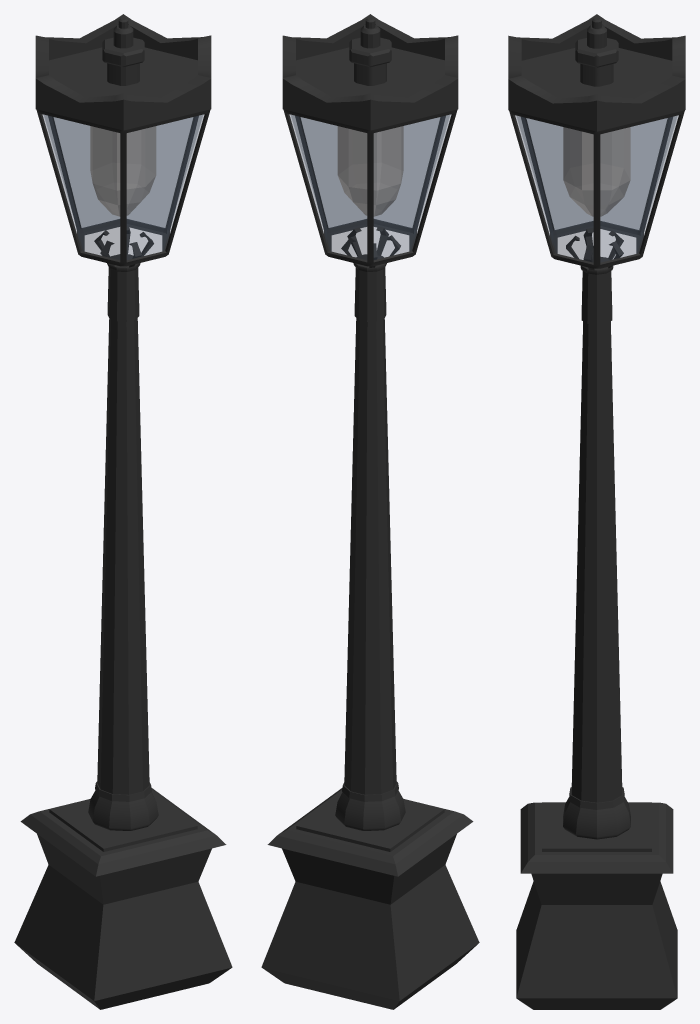
File: Lantarn.fbx
3 views of the same model, side by side, from view 1: azimuth 30°, elevation 25°; view 2: azimuth 150°, elevation 25°; view 3: azimuth 270°, elevation 25° (orthographic).
Parts seen in each view (by area): view 1: pCube43, pCylinder26, pCylinder25, pCylinder27, pCylinder28; view 2: pCube43, pCylinder26, pCylinder25, pCylinder27, pCylinder28; view 3: pCube43, pCylinder26, pCylinder25, pCylinder27, pCylinder28.
Boxes of the visible parts, bbox=[...] form: pCube43: bbox=[14, 788, 232, 1009]; pCylinder26: bbox=[36, 17, 210, 266]; pCylinder25: bbox=[88, 226, 158, 830]; pCylinder27: bbox=[35, 14, 211, 130]; pCylinder28: bbox=[90, 126, 156, 216]; pCube43: bbox=[261, 788, 479, 1009]; pCylinder26: bbox=[283, 17, 457, 266]; pCylinder25: bbox=[335, 226, 405, 830]; pCylinder27: bbox=[282, 14, 458, 130]; pCylinder28: bbox=[337, 126, 403, 216]; pCube43: bbox=[516, 802, 677, 1009]; pCylinder26: bbox=[509, 17, 684, 268]; pCylinder25: bbox=[563, 228, 630, 839]; pCylinder27: bbox=[508, 14, 685, 131]; pCylinder28: bbox=[563, 127, 630, 216].
Size of the model in its own units: 0.00829 by 0.0431 by 0.00718.
